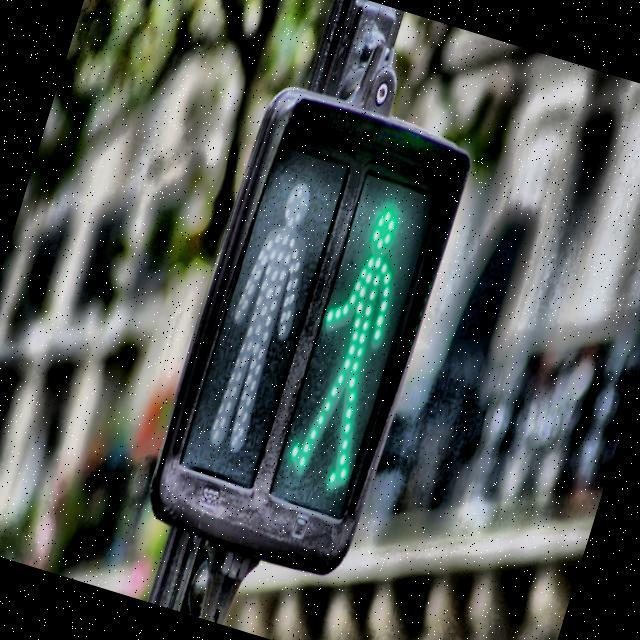green_light: (272, 190, 432, 500)
